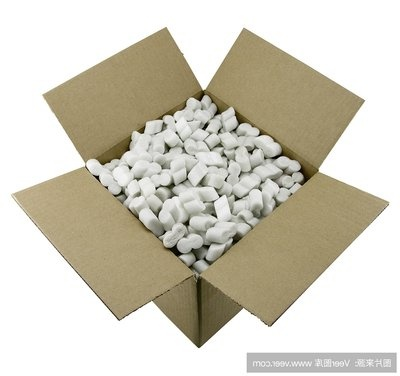5/可回收垃圾/泡沫: (84, 94, 305, 272)
